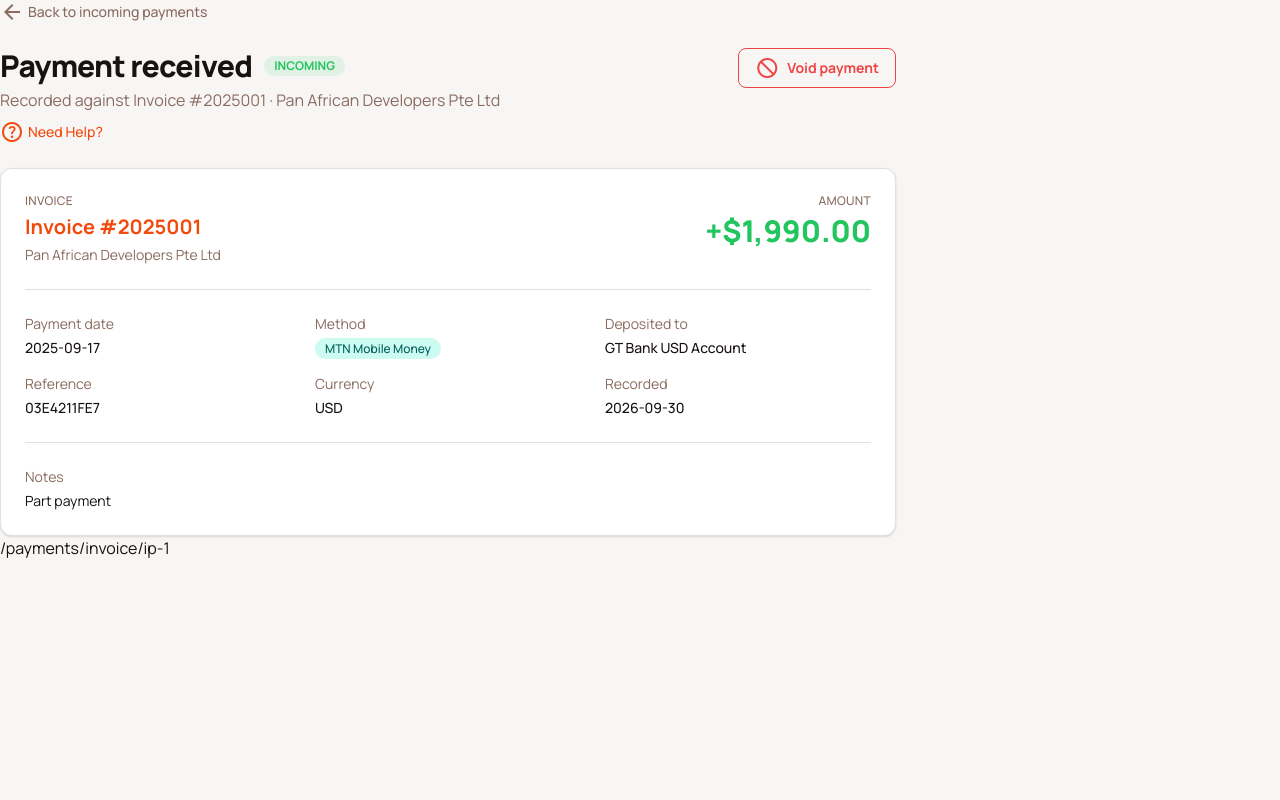
Test: PaymentDetailPage (SOUPFIN-177) › Keep payment closes the dialog without deleting
Click the button with test id "payment-void-button": (817, 68) [738,48,896,88]
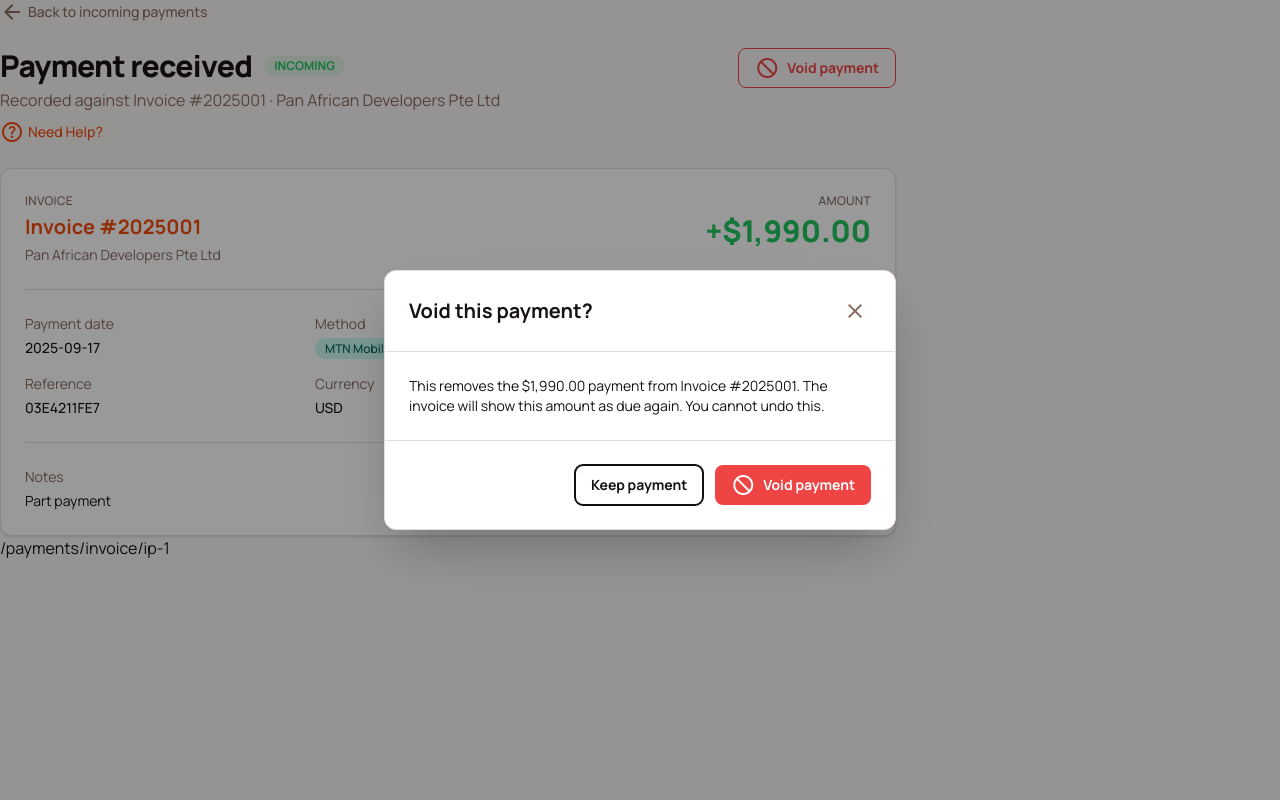
expect the element with test id "payment-void-dialog" shows "Void this payment?": met, box [409,297,593,324]
Click the button with test id "payment-void-cancel": (639, 485) [575,465,703,505]
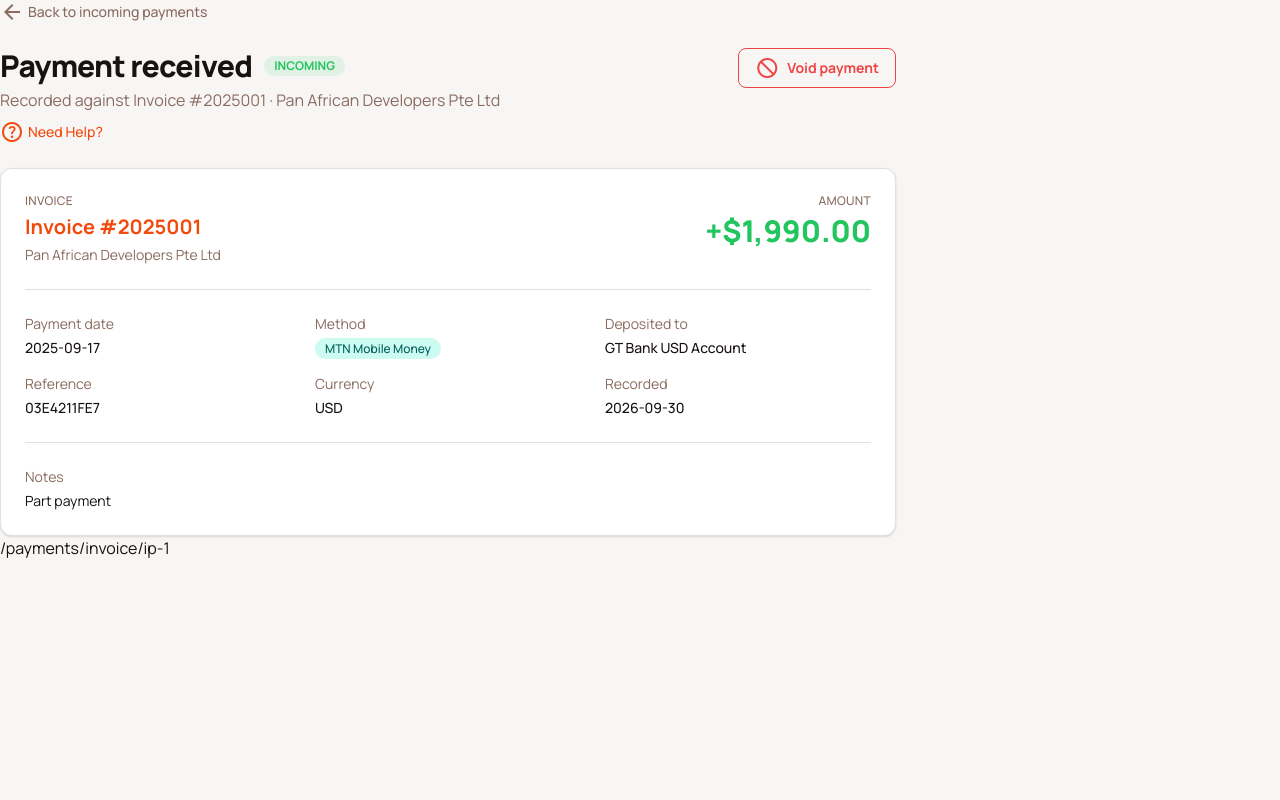
expect the element with test id "payment-void-dialog" is gone: met
